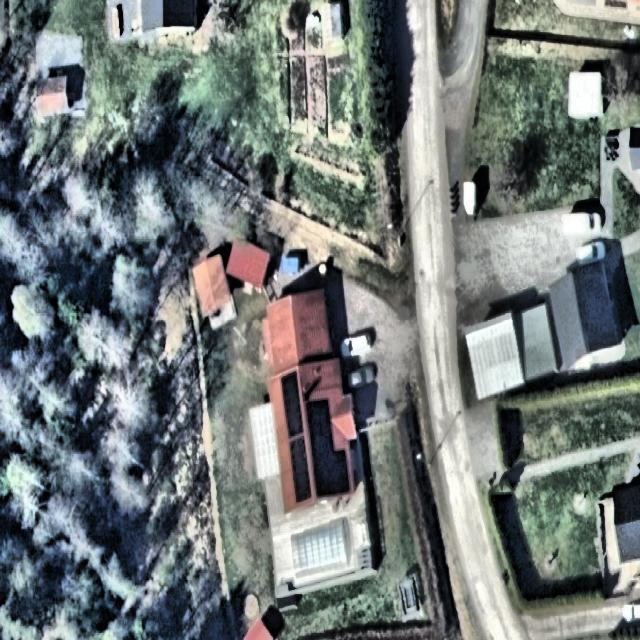roof_pv: (308, 397, 337, 501), (279, 363, 307, 439), (288, 439, 313, 507), (333, 451, 351, 498)
